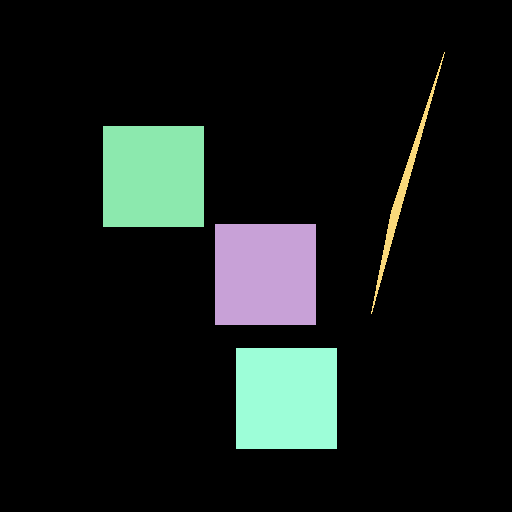square: (236, 348, 336, 448), (215, 224, 315, 324), (103, 126, 203, 226)
